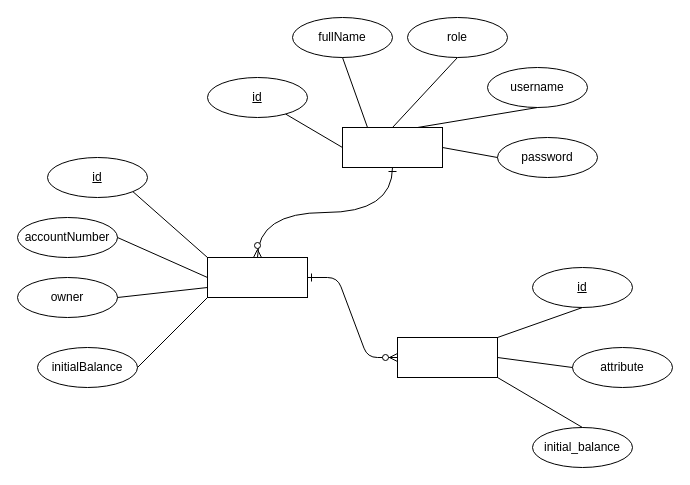
Image size: 690x485. Some labels were removed from this diagram. The box of each missing label's shape, as (x1, y1, x2, y2) in pixels:
Account: (206, 256, 308, 298)
Pocket: (396, 336, 498, 378)
User: (342, 126, 442, 168)
